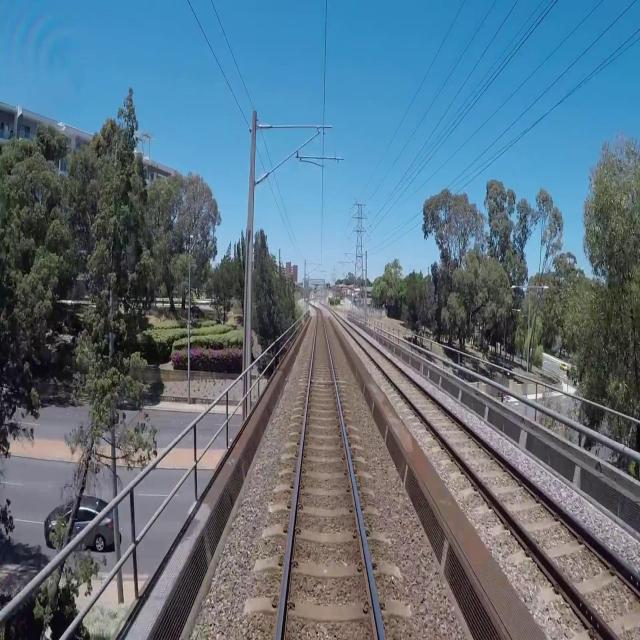rail-track: (340, 319, 640, 639), (280, 310, 379, 639)
